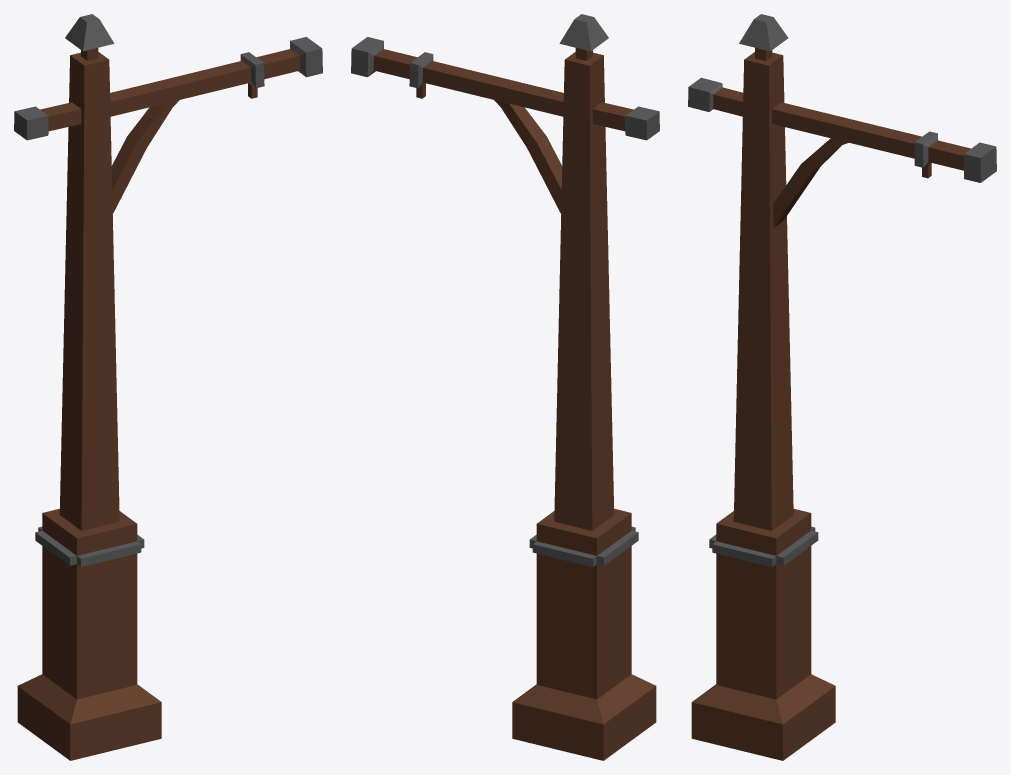
Rendered from PosteofLight.fbx.
The picture shows the model from 3 angles, left to right: view 1: azimuth 30°, elevation 25°; view 2: azimuth 150°, elevation 25°; view 3: azimuth 330°, elevation 25°; orthographic projection.
Visible parts, largest first — view 1: PosteofLight; view 2: PosteofLight; view 3: PosteofLight.
Boxes of the visible parts, box(x1,y1,x2,y2) form: PosteofLight: box(14, 14, 322, 760); PosteofLight: box(351, 14, 659, 760); PosteofLight: box(688, 14, 996, 760).
Size of the model in its own units: 96.45 by 223 by 29.95.
